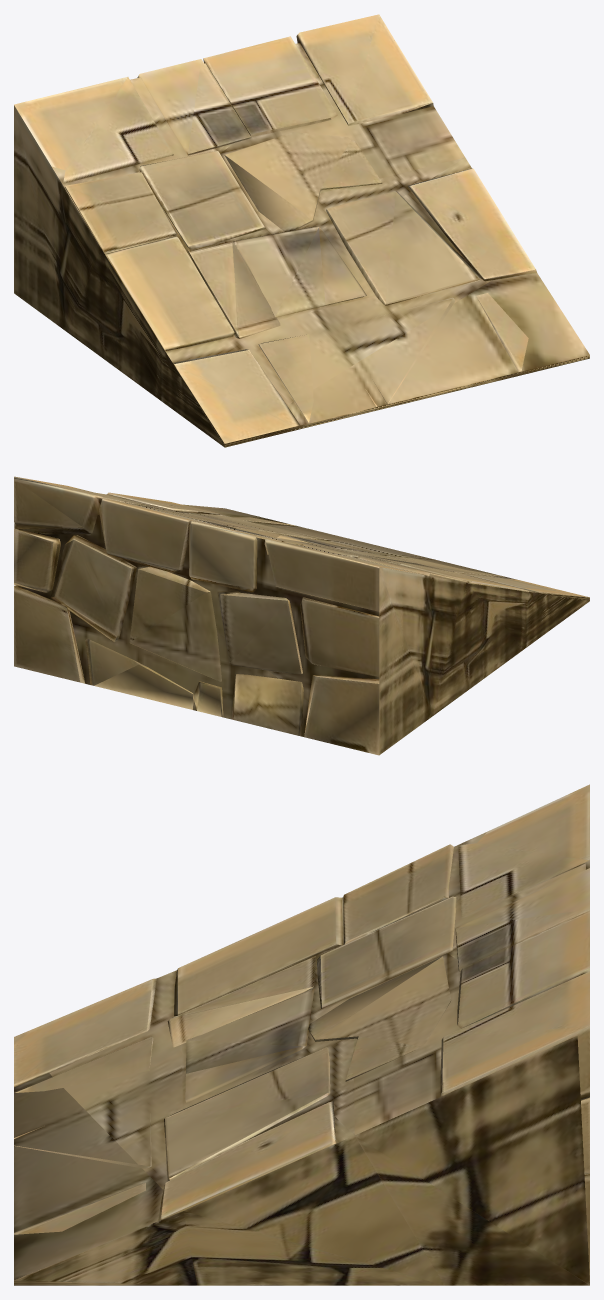
File: ramp.glb
The picture shows the model from 3 angles, top to bottom: view 1: azimuth 30°, elevation 25°; view 2: azimuth 150°, elevation 25°; view 3: azimuth 270°, elevation 25°; orthographic projection. The views are drawn at different scales.
Size of the model in its own units: 2 by 1 by 2.
Materials: 1 (1 with a texture image).
